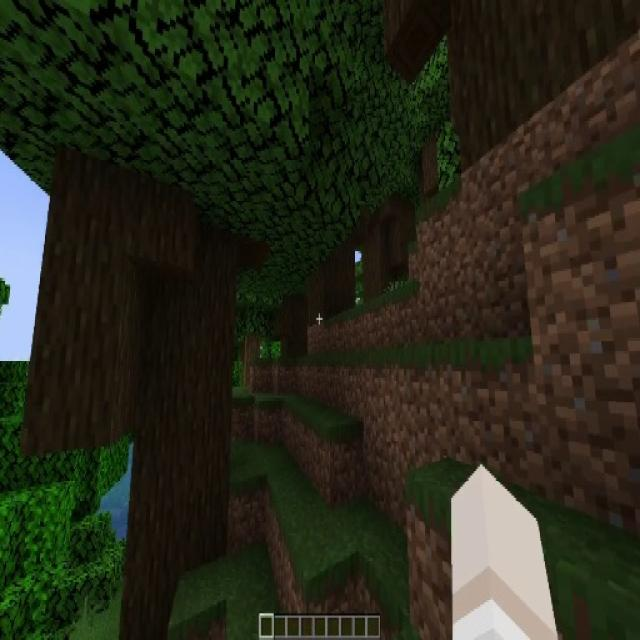dark_oak_log: (50, 160, 231, 638), (360, 189, 413, 292), (308, 245, 353, 322), (278, 295, 305, 362)
oak: (230, 269, 277, 363)
oak_log: (244, 336, 260, 360)
